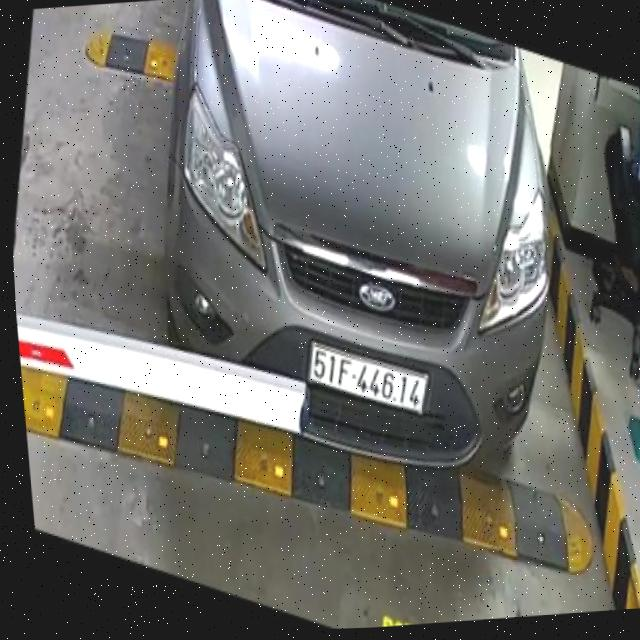car: (148, 0, 552, 485)
plate: (304, 335, 436, 421)
